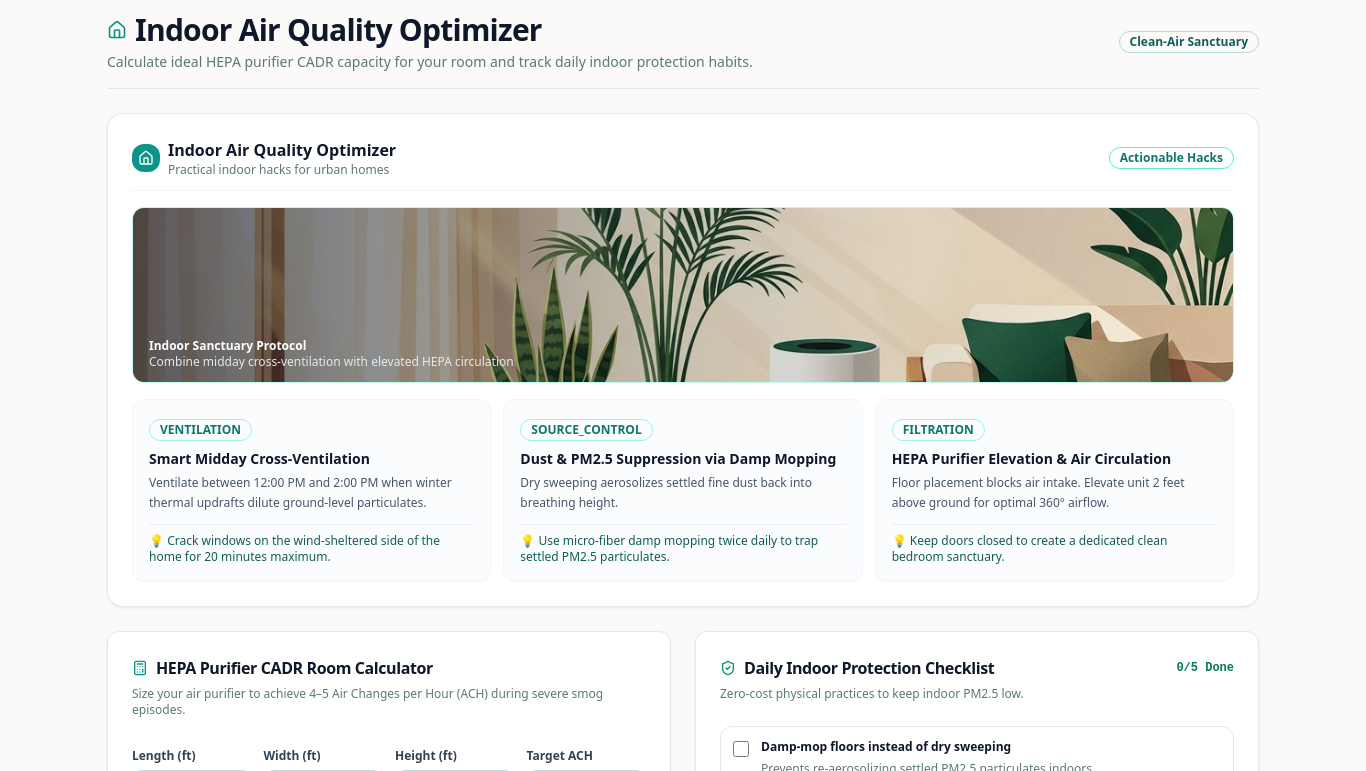
it: Frontend Alignment & Interactive Views › IndoorAirView persists completed indoor protection checklist items
This screenshot has width=1366, height=771.
Click the checkbox labelled "Damp-mop floors instead of dry sweeping" at (741,749), box [733,741,749,757]
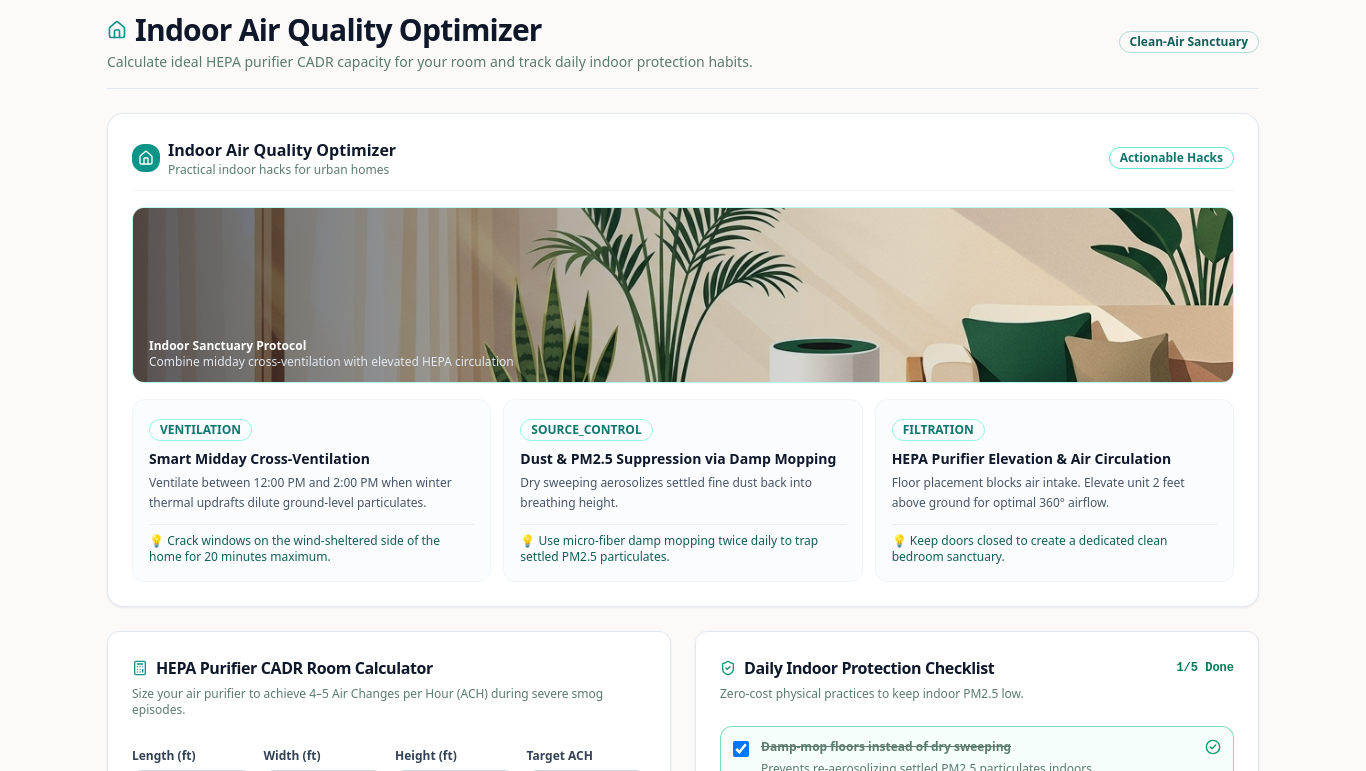
Result: the checkbox labelled "Damp-mop floors instead of dry sweeping" is checked at [733,741,749,757]
Result: the text "1/5 Done" is shown at [1176,660,1234,676]
